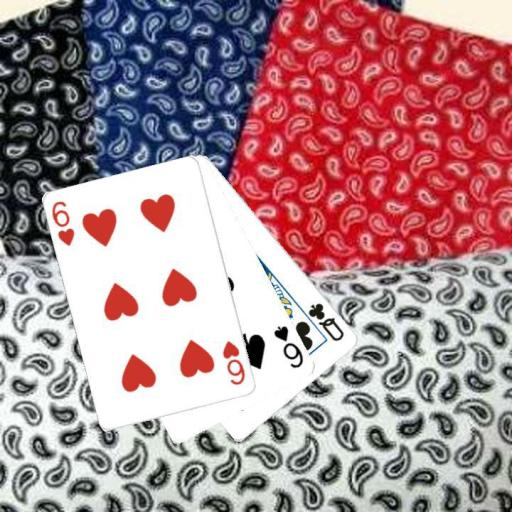6H: (48, 198, 77, 248), (220, 338, 247, 387)
6S: (271, 323, 306, 370)
QC: (305, 300, 346, 344)
